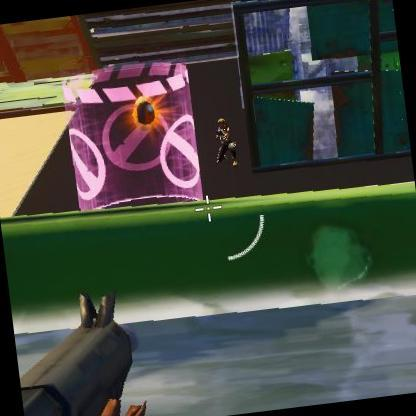person: (210, 116, 242, 171)
